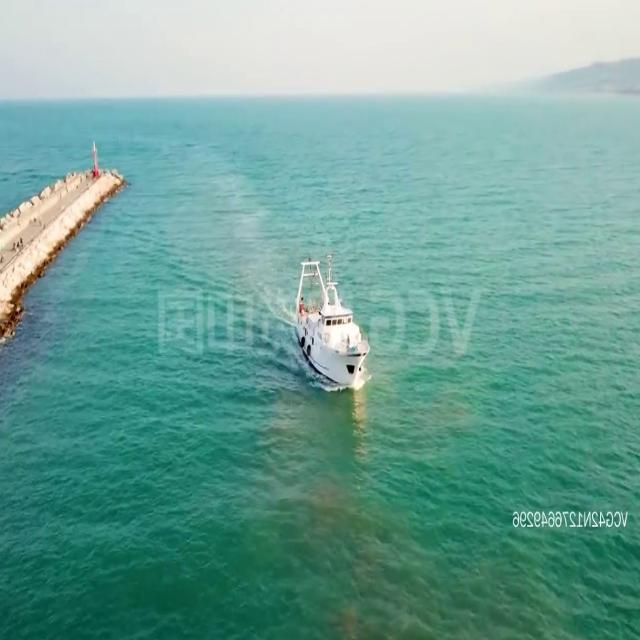houseboat: (291, 251, 371, 385)
